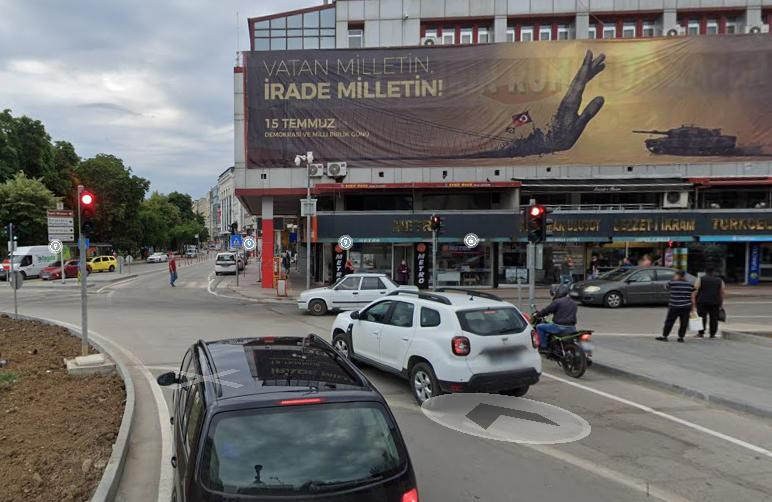redlight: (525, 205, 547, 245), (76, 185, 95, 212)
